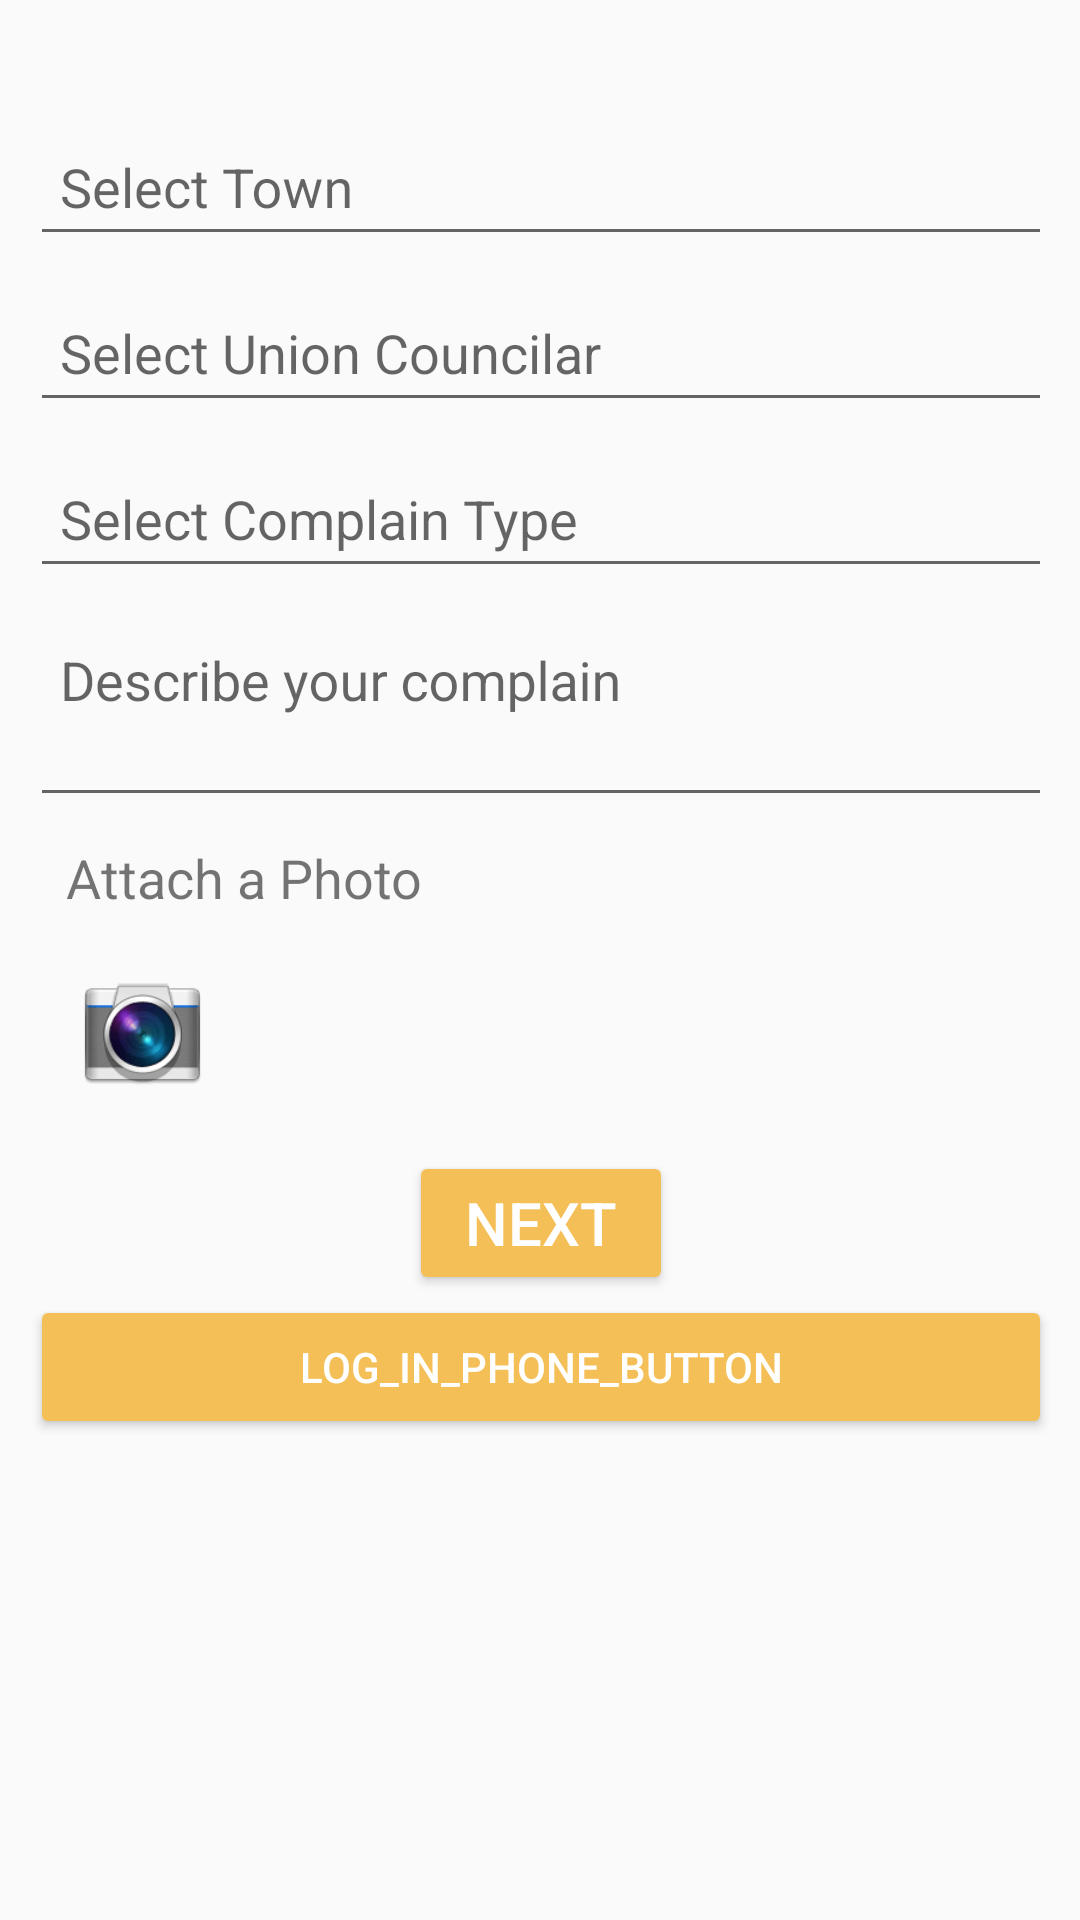

Locate icon controls on the screen. Image size 1080px×1920px, boxes as (x1, y1, x2, y2).
camera: (85, 984, 200, 1083)
